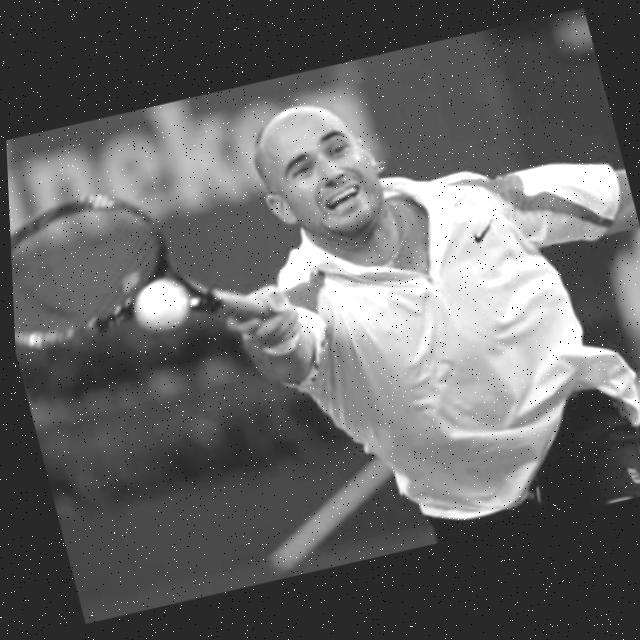face: (245, 92, 409, 267)
